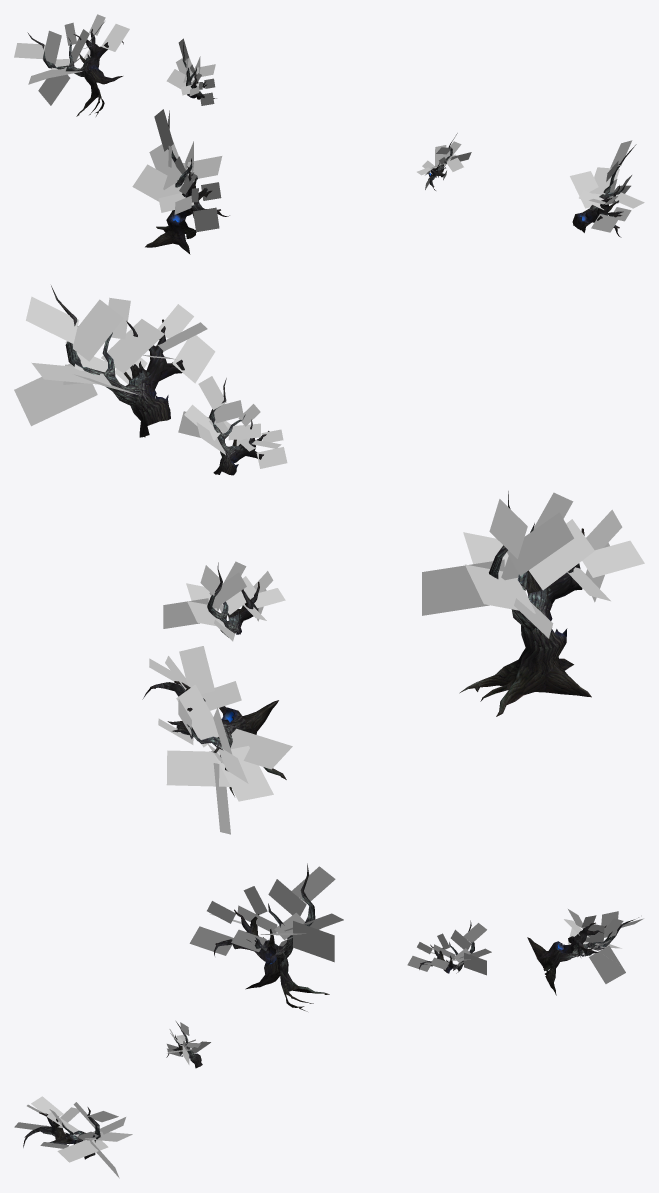
File: tree.FBX
3 renders of one model, top to bottom at view 1: azimuth 30°, elevation 25°; view 2: azimuth 150°, elevation 25°; view 3: azimuth 270°, elevation 25°, orthographic. The views are drawn at different scales.
Visible parts, largest first — view 1: Plane057, Object322; view 2: Plane057, Object322; view 3: Plane057, Object322.
Boxes of the visible parts, box(x1,y1,x2,y2) form: Plane057: box(14, 14, 644, 232); Object322: box(27, 29, 636, 254); Plane057: box(14, 296, 644, 834); Object322: box(51, 285, 591, 796); Plane057: box(14, 866, 643, 1178); Object322: box(23, 863, 638, 1159).
Size of the model in its own units: 3071 by 899 by 3817.
